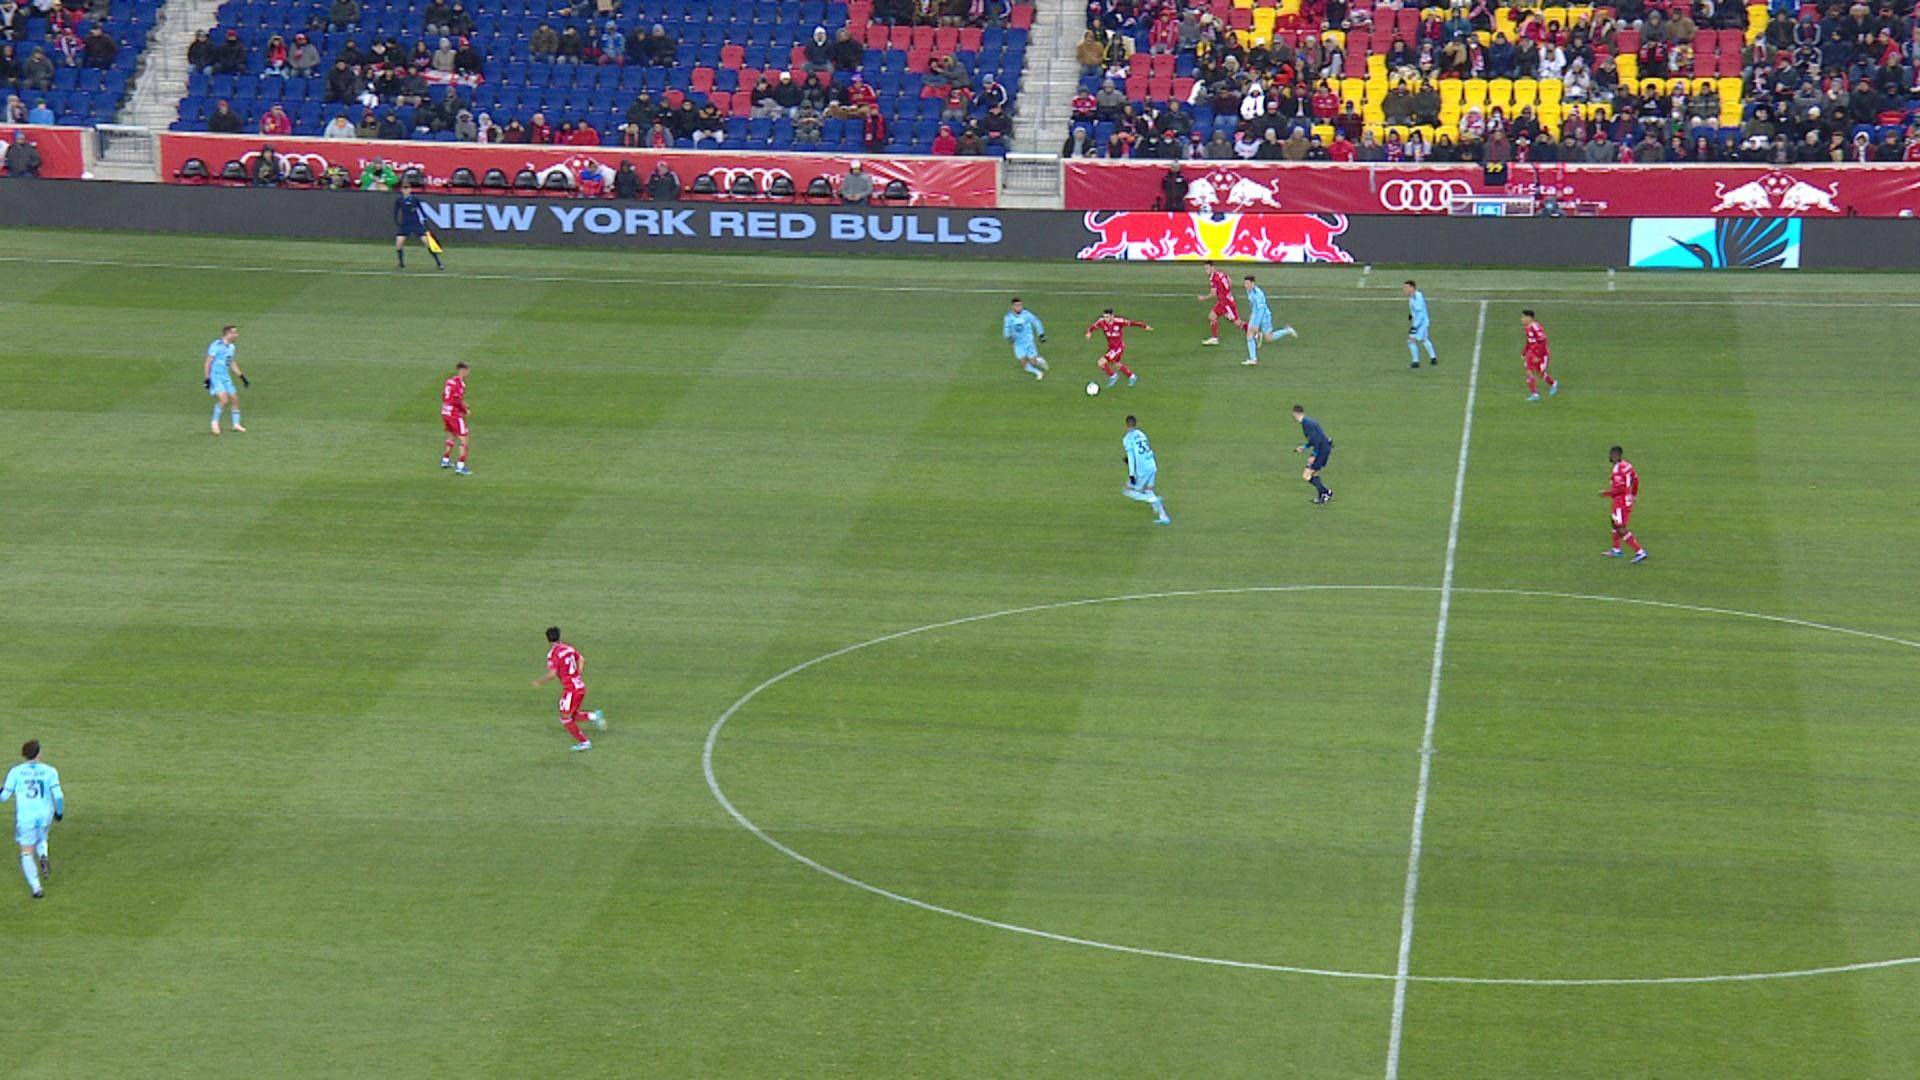football: (1085, 381, 1101, 397)
